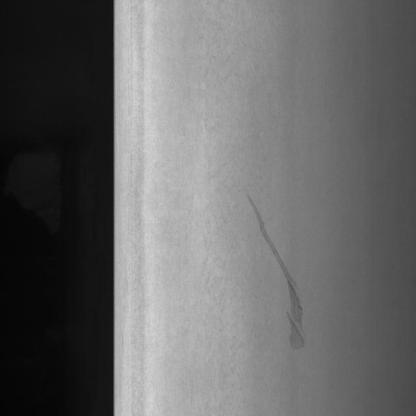water_spot: (242, 180, 314, 371)
